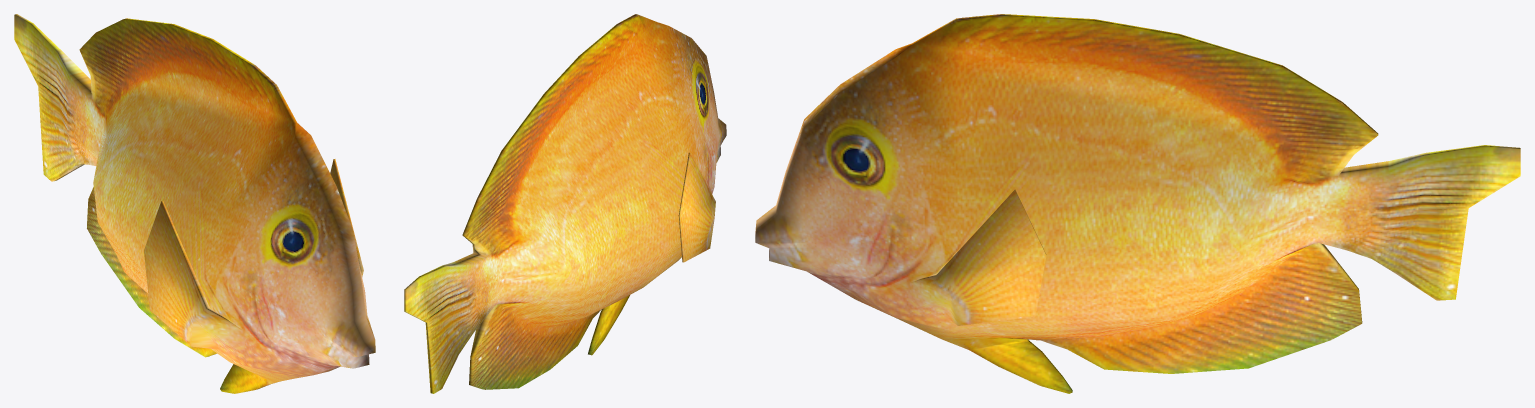
The model's file is fish4.glb.
3 views of the same model, side by side, from view 1: azimuth 30°, elevation 25°; view 2: azimuth 150°, elevation 25°; view 3: azimuth 270°, elevation 25° (orthographic). The views are drawn at different scales.
Parts seen in each view (by area): view 1: Asset3DLoader.sceneRoot; view 2: Asset3DLoader.sceneRoot; view 3: Asset3DLoader.sceneRoot.
Part boxes in pixels (x1,y1,x2,y2): Asset3DLoader.sceneRoot: (14, 14, 375, 393); Asset3DLoader.sceneRoot: (404, 14, 726, 393); Asset3DLoader.sceneRoot: (755, 14, 1520, 393).
Size of the model in its own units: 135 by 248 by 456.
1 material, 1 textured.
